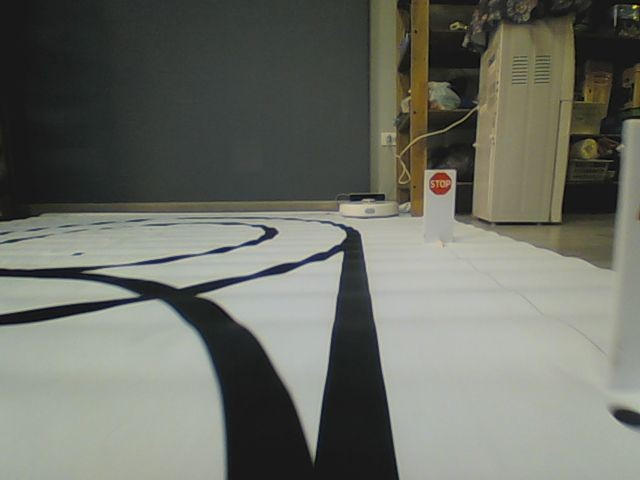Stop: (427, 171, 452, 196)
